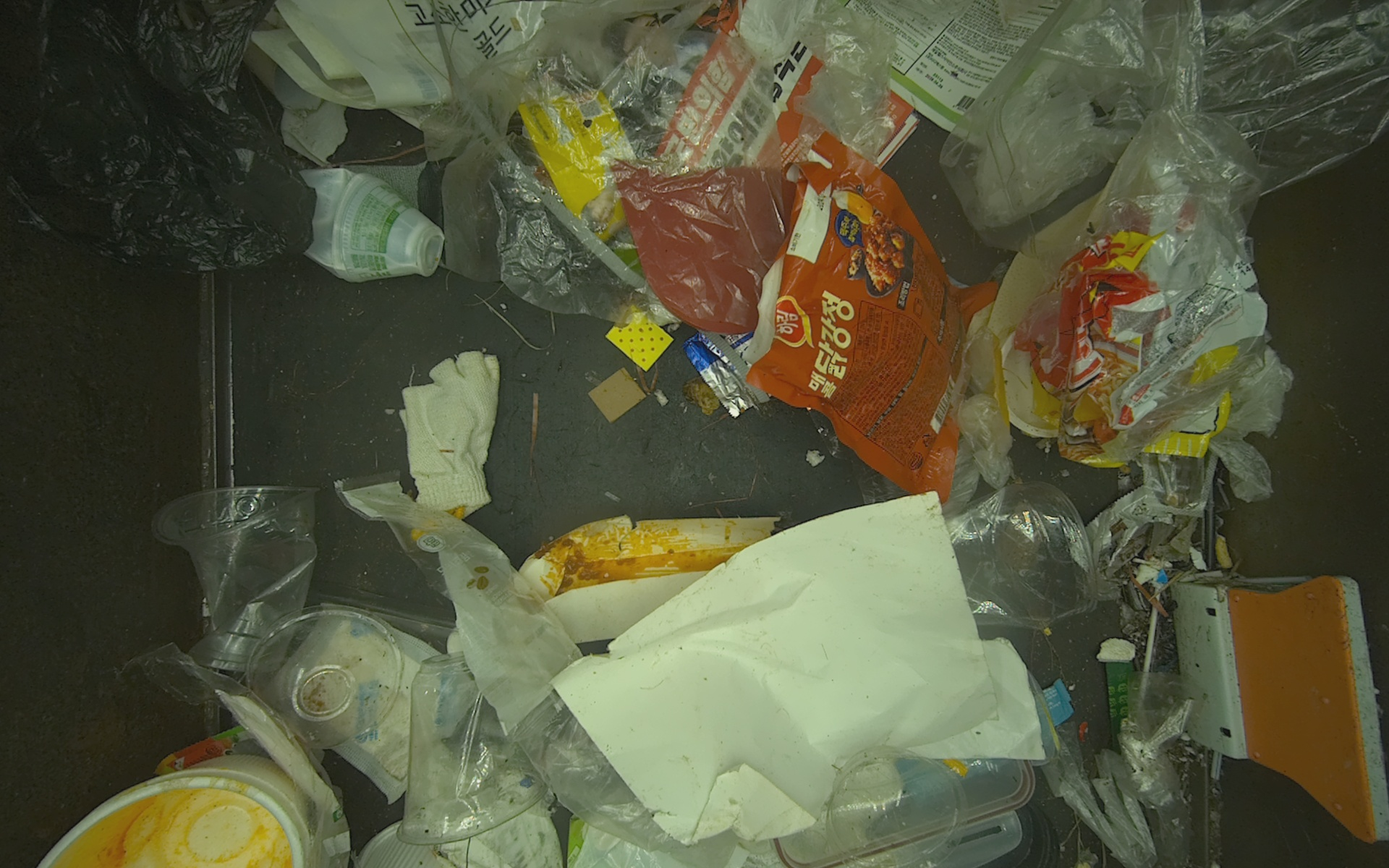PET-C: (151, 485, 320, 672), (396, 650, 549, 846), (247, 603, 406, 749), (944, 482, 1098, 631), (825, 744, 969, 868)
PS-W: (299, 168, 445, 283)
